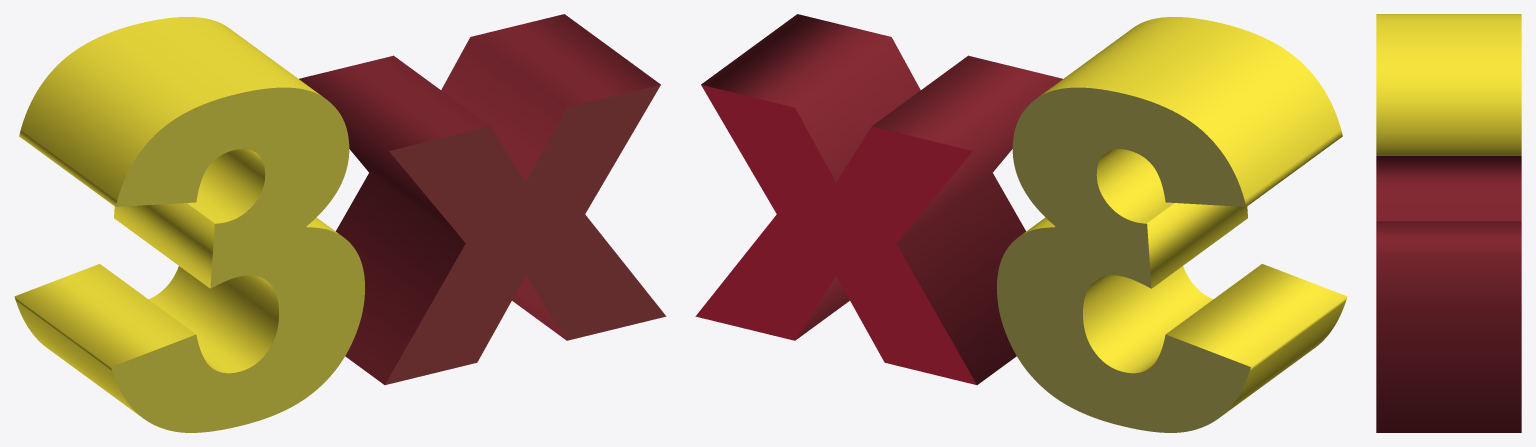
3 views of the same model, side by side, from view 1: azimuth 30°, elevation 25°; view 2: azimuth 150°, elevation 25°; view 3: azimuth 270°, elevation 25° (orthographic). The views are drawn at different scales.
Parts seen in each view (by area): view 1: Text.004, Text.001, Text.005, Text; view 2: Text.004, Text.003, Text.005, Text.002; view 3: Text.005, Text.004.
Boxes of the visible parts, box(x1,y1,x2,y2) form: Text.004: box(14, 17, 339, 415); Text.001: box(111, 87, 364, 432); Text.005: box(299, 14, 660, 384); Text: box(385, 85, 666, 384); Text.004: box(1022, 17, 1347, 415); Text.003: box(997, 87, 1250, 432); Text.005: box(701, 14, 1062, 384); Text.002: box(695, 85, 976, 384); Text.005: box(1376, 156, 1521, 432); Text.004: box(1376, 14, 1521, 155).
Size of the model in its own units: 93.01 by 53.25 by 28.
